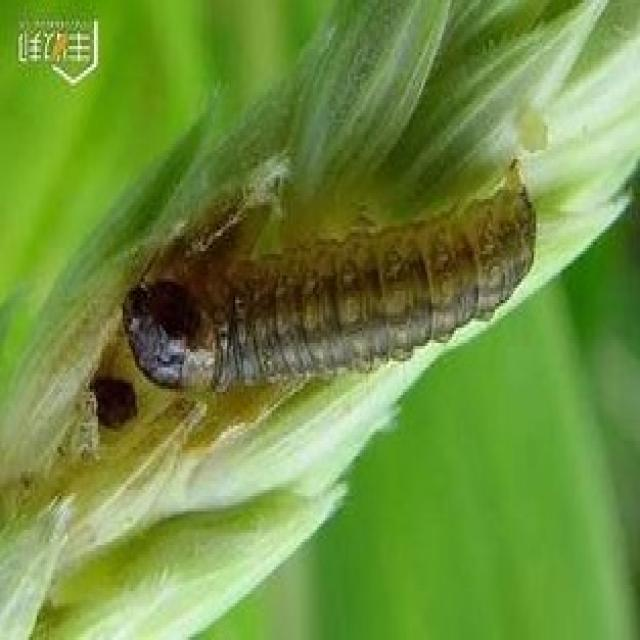peach borer: (116, 185, 548, 399)
